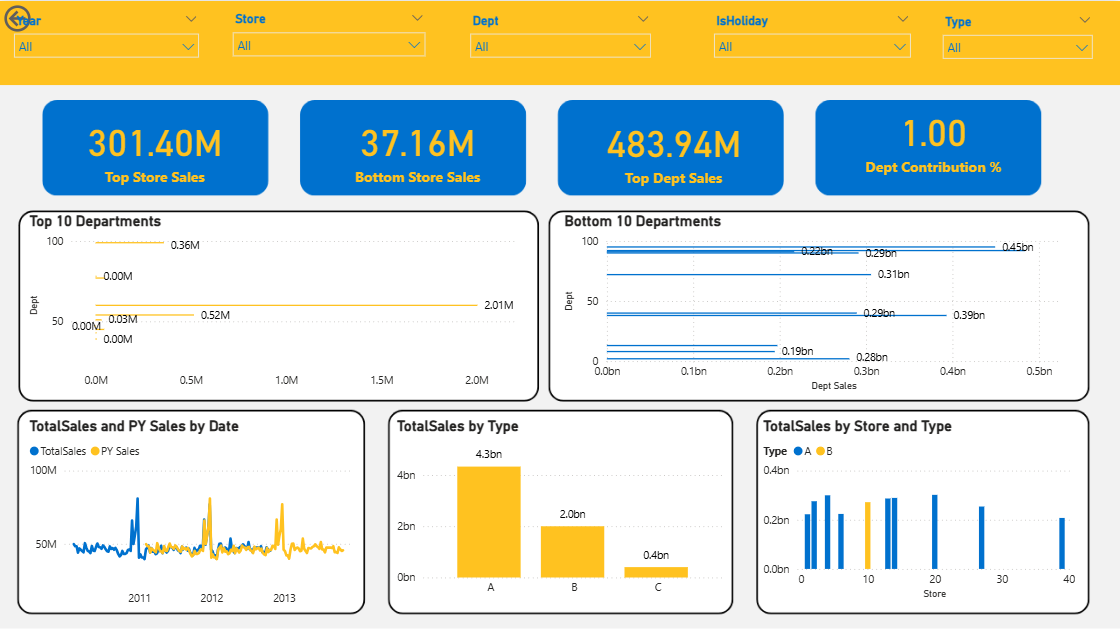

The dashboard page shown, as its layout file describes it:
{"tool":"powerbi","page":{"name":"Page 2","canvas":[1280,720],"ordinal":1},"visuals":[{"type":"barChart","title":"Bottom 10 Departments","fields":{"Category":["train.Dept"],"Y":["Dim_Date.Dept Sales"]},"box":[640,241.7,593.3,210],"z":0},{"type":"barChart","title":"Top 10 Departments","fields":{"Category":["train.Dept"],"Y":["Dim_Date.Dept Sales"]},"box":[28.3,241.7,578.3,210],"z":1000},{"type":"columnChart","fields":{"Category":["train.Store"],"Y":["Dim_Date.TotalSales"],"Series":["stores.Type"]},"box":[866.7,475,366.7,213.3],"z":2000},{"type":"lineChart","fields":{"Category":["Dim_Date.Date"],"Y":["Dim_Date.TotalSales"],"Y2":["Dim_Date.PY Sales"]},"box":[28.3,475,381.7,225],"z":3000},{"type":"columnChart","fields":{"Category":["stores.Type"],"Y":["Dim_Date.TotalSales"]},"box":[448.3,475,385,213.3],"z":4000},{"type":"actionButton","box":[0,0,100,40],"z":5000},{"type":"slicer","fields":{"Values":["Dim_Date.Year"]},"box":[5,8.3,231.7,65],"z":6000},{"type":"slicer","fields":{"Values":["stores.Store"]},"box":[255,6.7,240,65],"z":7000},{"type":"slicer","fields":{"Values":["train.Dept"]},"box":[526.7,8.3,226.7,65],"z":8000},{"type":"slicer","fields":{"Values":["features.IsHoliday"]},"box":[805,8.3,245,65],"z":9000},{"type":"slicer","fields":{"Values":["stores.Type"]},"box":[1066.7,10,191.7,65],"z":10000},{"type":"card","fields":{"Values":["Category Parameter.Top Store Sales"]},"box":[66.7,121.7,220,95],"z":11000},{"type":"card","fields":{"Values":["Category Parameter.Bottom Store Sales"]},"box":[375,121.7,203.3,95],"z":12000},{"type":"card","fields":{"Values":["Category Parameter.Top Dept Sales"]},"box":[640,110,260,120],"z":13000},{"type":"card","fields":{"Values":["Dim_Date.Dept Contribution %"]},"box":[933.3,86.7,268.3,140],"z":14000}]}

Visuals, with their boxes in screenshot pixels (x1, y1, x2, y2), scaled from the page's 1280x720 canvas onto the 1120x630 screenshot:
"Bottom 10 Departments" barChart: box=[560, 211, 1079, 395]
"Top 10 Departments" barChart: box=[25, 211, 531, 395]
columnChart - train.Store x Dim_Date.TotalSales: box=[758, 416, 1079, 602]
lineChart - Dim_Date.Date x Dim_Date.TotalSales: box=[25, 416, 359, 612]
columnChart - stores.Type x Dim_Date.TotalSales: box=[392, 416, 729, 602]
actionButton: box=[0, 0, 88, 35]
slicer - Dim_Date.Year: box=[4, 7, 207, 64]
slicer - stores.Store: box=[223, 6, 433, 63]
slicer - train.Dept: box=[461, 7, 659, 64]
slicer - features.IsHoliday: box=[704, 7, 919, 64]
slicer - stores.Type: box=[933, 9, 1101, 66]
card - Category Parameter.Top Store Sales: box=[58, 106, 251, 190]
card - Category Parameter.Bottom Store Sales: box=[328, 106, 506, 190]
card - Category Parameter.Top Dept Sales: box=[560, 96, 788, 201]
card - Dim_Date.Dept Contribution %: box=[817, 76, 1051, 198]
